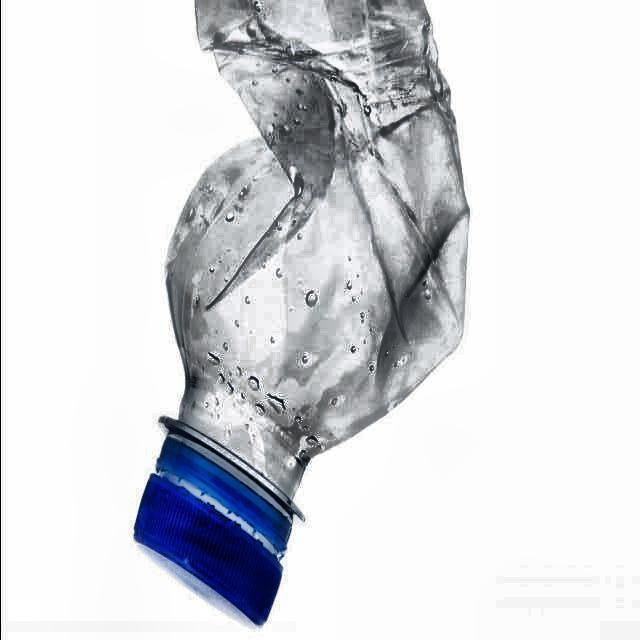plastic: (135, 0, 469, 624)
